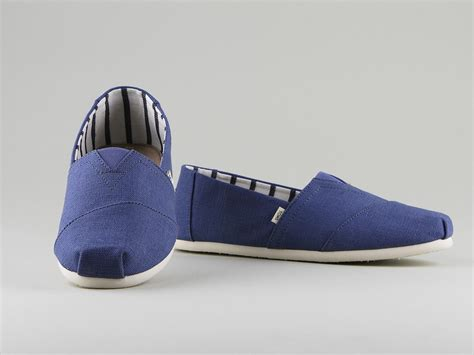nylon: (56, 86, 455, 279)
